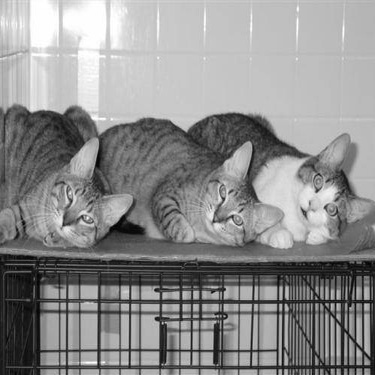cat: (186, 112, 372, 245), (96, 114, 282, 241), (1, 100, 132, 250)
